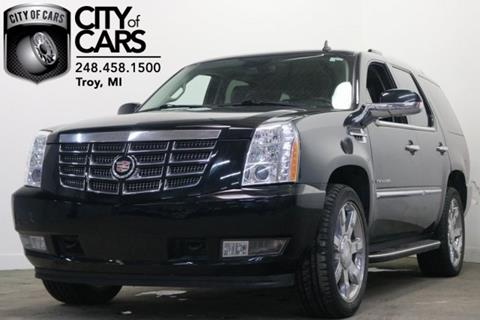Carro: (5, 55, 479, 320)
